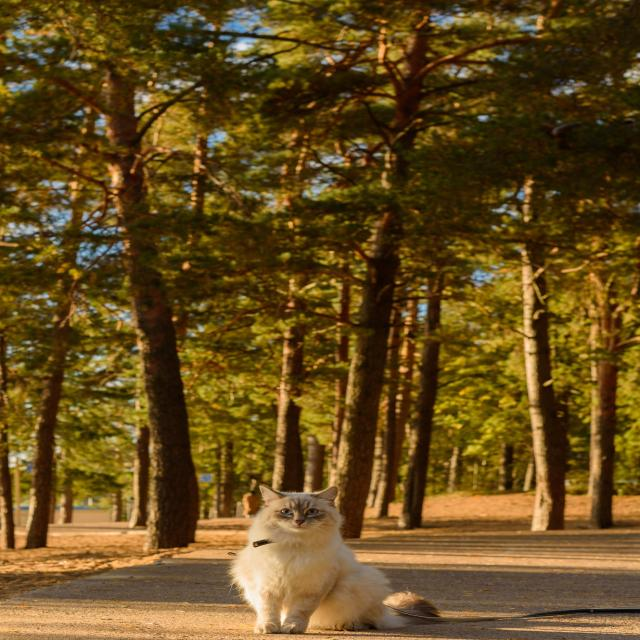Neva Masquerade: (226, 478, 447, 639)
